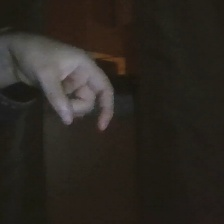Q: (6, 21, 126, 142)
